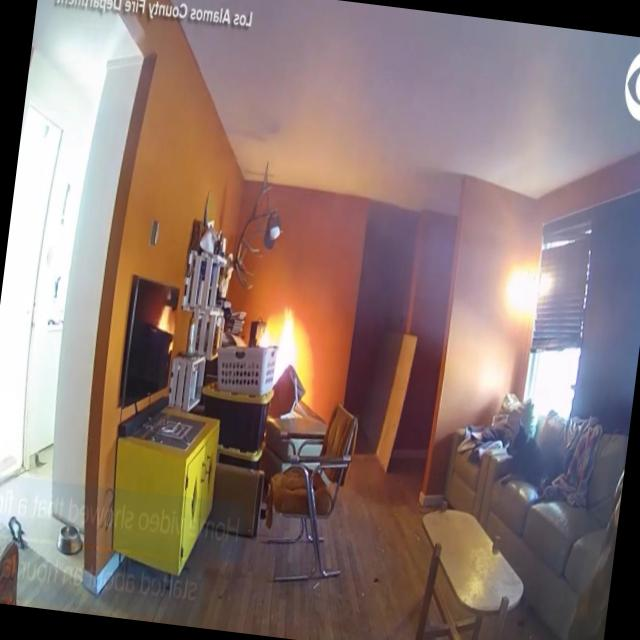fire: (256, 303, 301, 387)
